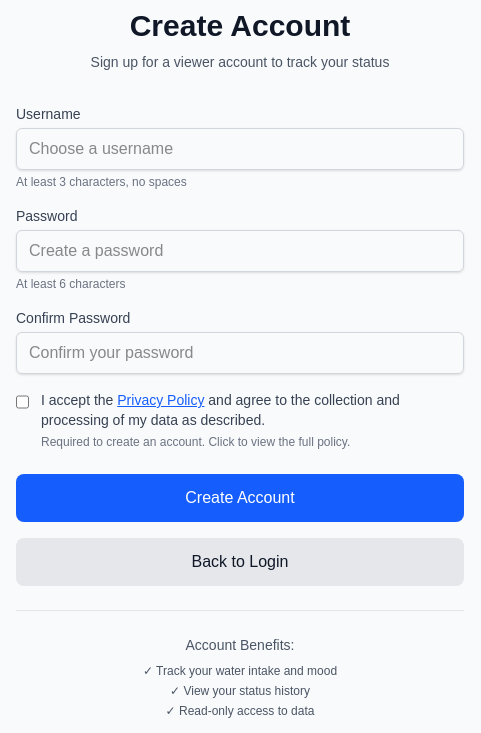
Test: RegisterForm › validates required fields
Click the button "Create Account" at point(240, 498), box [16,474,464,522]
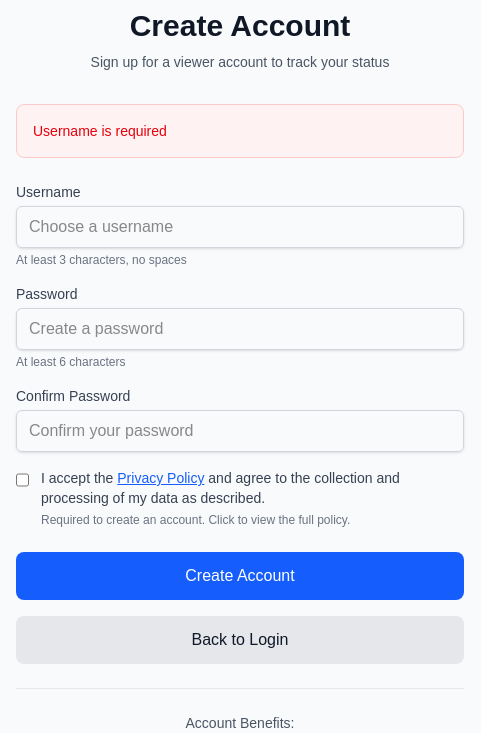
Expected: the text "Username is required" is shown, [33,123,167,139]
